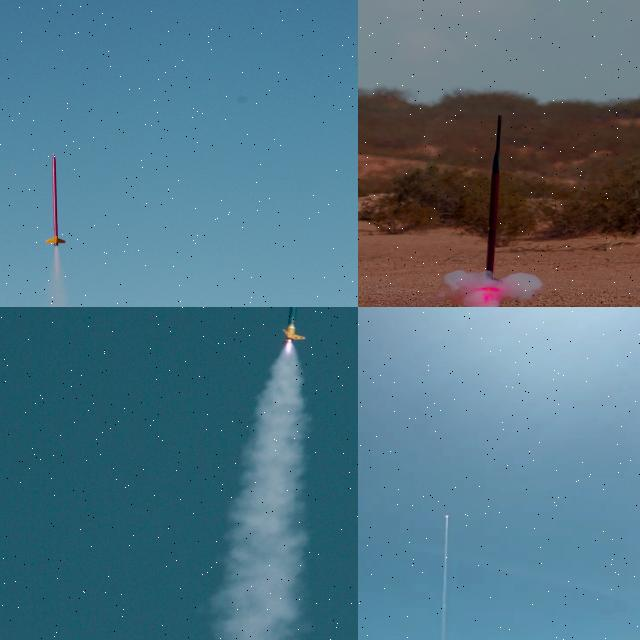Rocket: (474, 147, 506, 289), (46, 152, 67, 247), (280, 307, 305, 344), (446, 513, 449, 515)
